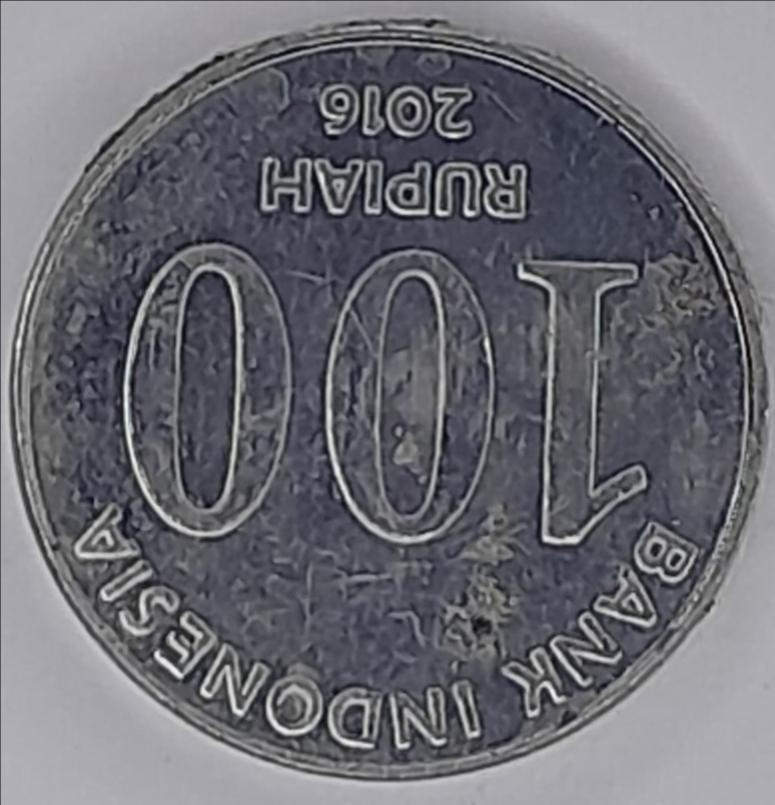coin_100_e2016: (4, 14, 773, 783)
